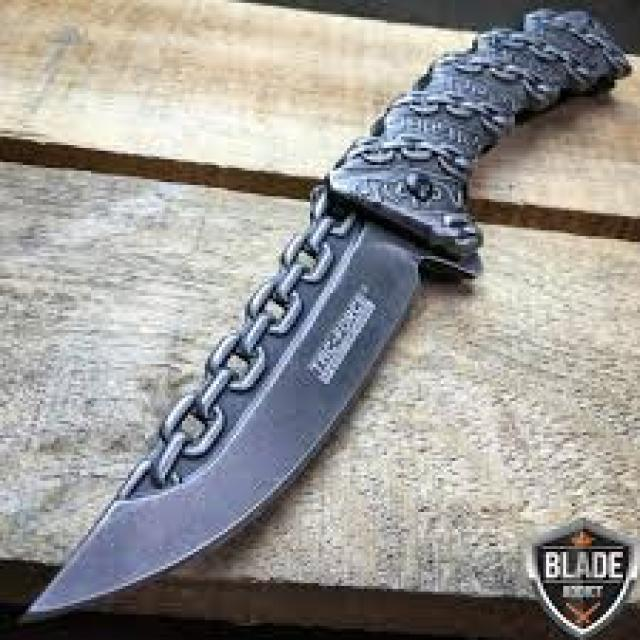knives: (17, 65, 476, 630)
